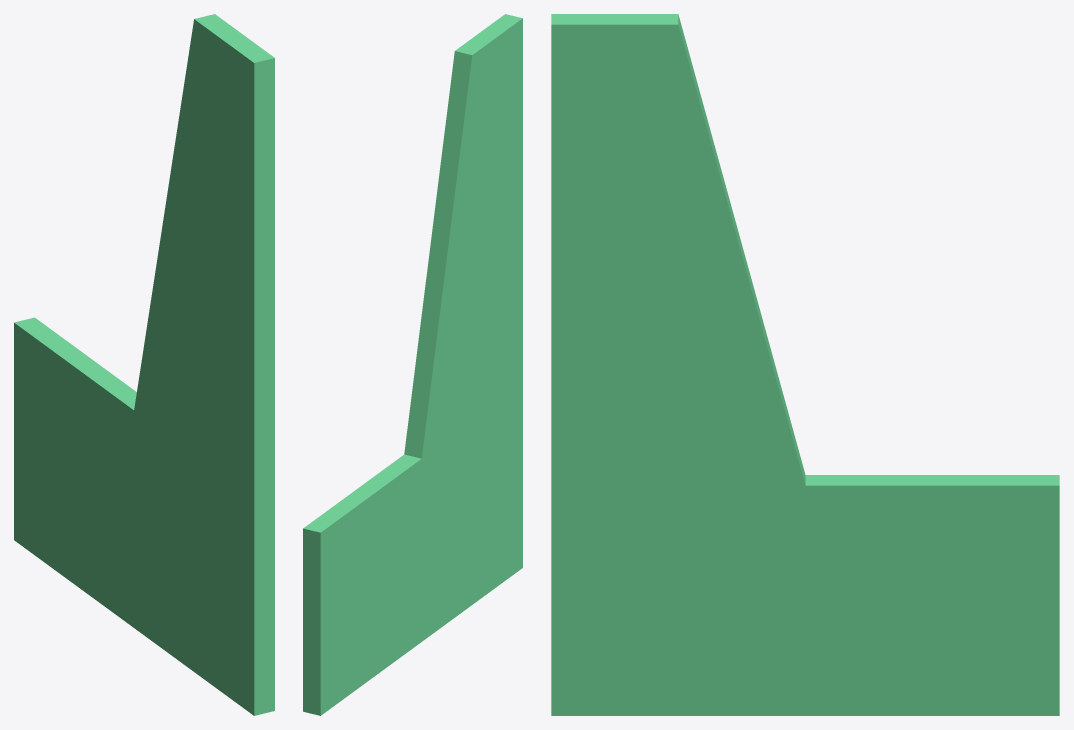
File: 2-3wall_cut_left.fbx
3 renders of one model, left to right at view 1: azimuth 30°, elevation 25°; view 2: azimuth 150°, elevation 25°; view 3: azimuth 270°, elevation 25°, orthographic. The views are drawn at different scales.
Visible parts, largest first — view 1: 2-3wall.004; view 2: 2-3wall.004; view 3: 2-3wall.004.
Part boxes in pixels (x1,y1,x2,y2): 2-3wall.004: [14, 14, 274, 715]; 2-3wall.004: [303, 14, 522, 715]; 2-3wall.004: [551, 14, 1059, 715].
Bounding box in the file's own units: 10 × 300 × 200.
